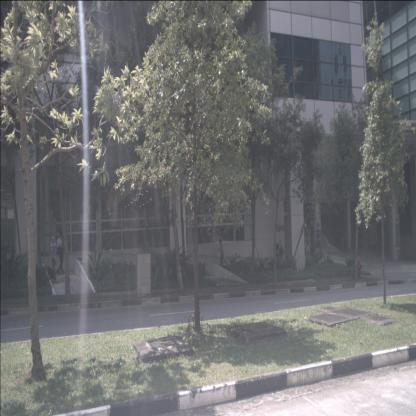human-pedestrian-adult: (48, 237, 57, 281), (57, 232, 64, 274), (217, 239, 224, 271), (313, 243, 320, 268), (305, 240, 310, 268), (310, 243, 314, 267)
